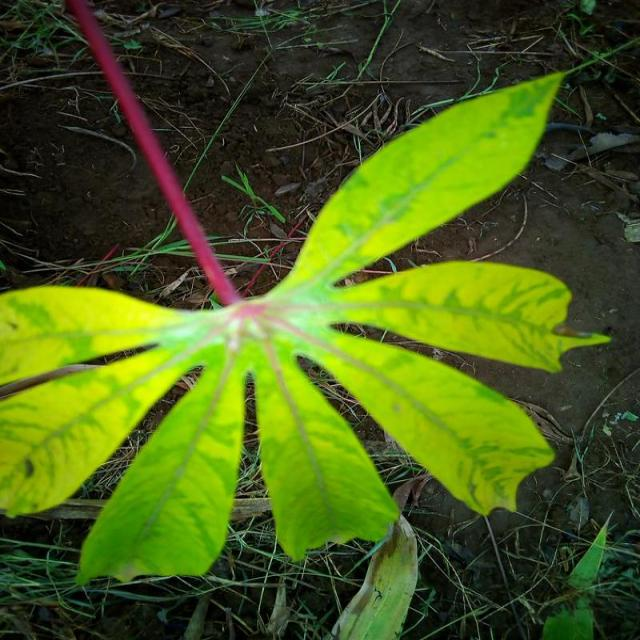cassava leaf: (0, 62, 610, 587)
